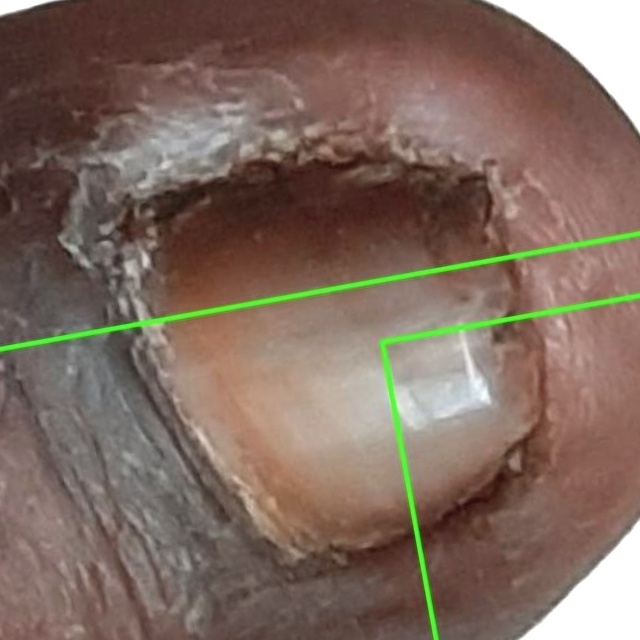Seborrheic Dermatitis: (0, 0, 639, 347), (382, 295, 639, 639)
